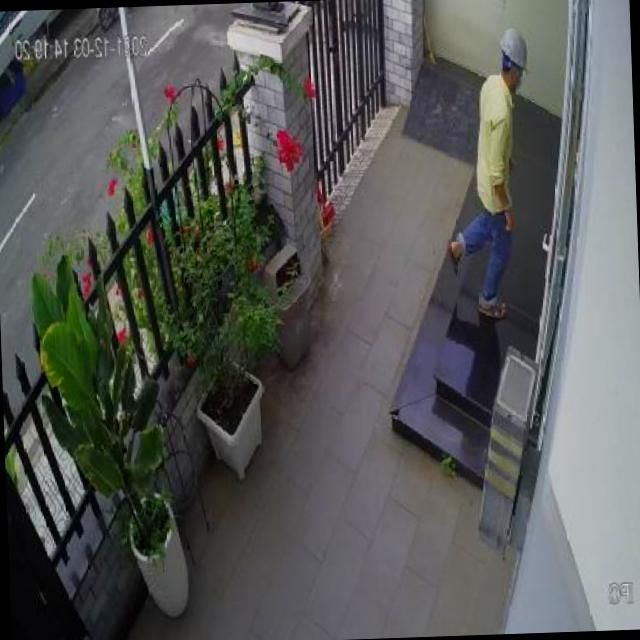Person: (440, 26, 536, 322)
